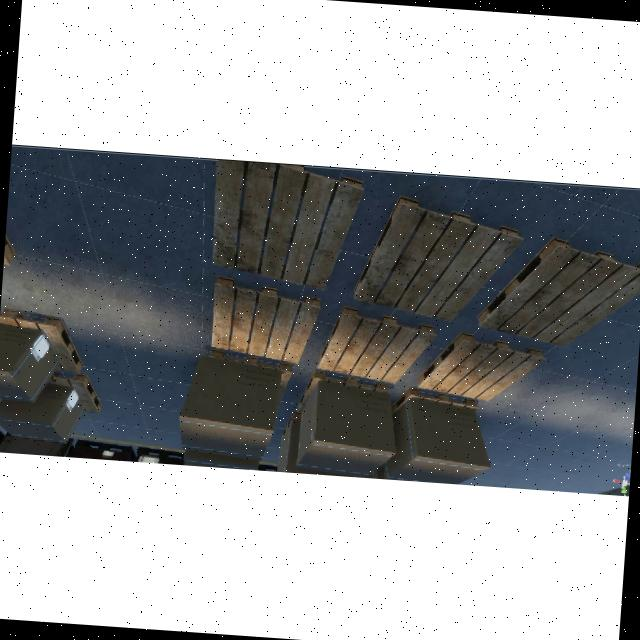wooden_pallet: (353, 195, 523, 322), (317, 305, 435, 384), (416, 331, 546, 401), (0, 306, 84, 373), (207, 348, 293, 405), (297, 370, 389, 413), (391, 386, 479, 414), (49, 371, 103, 414)
